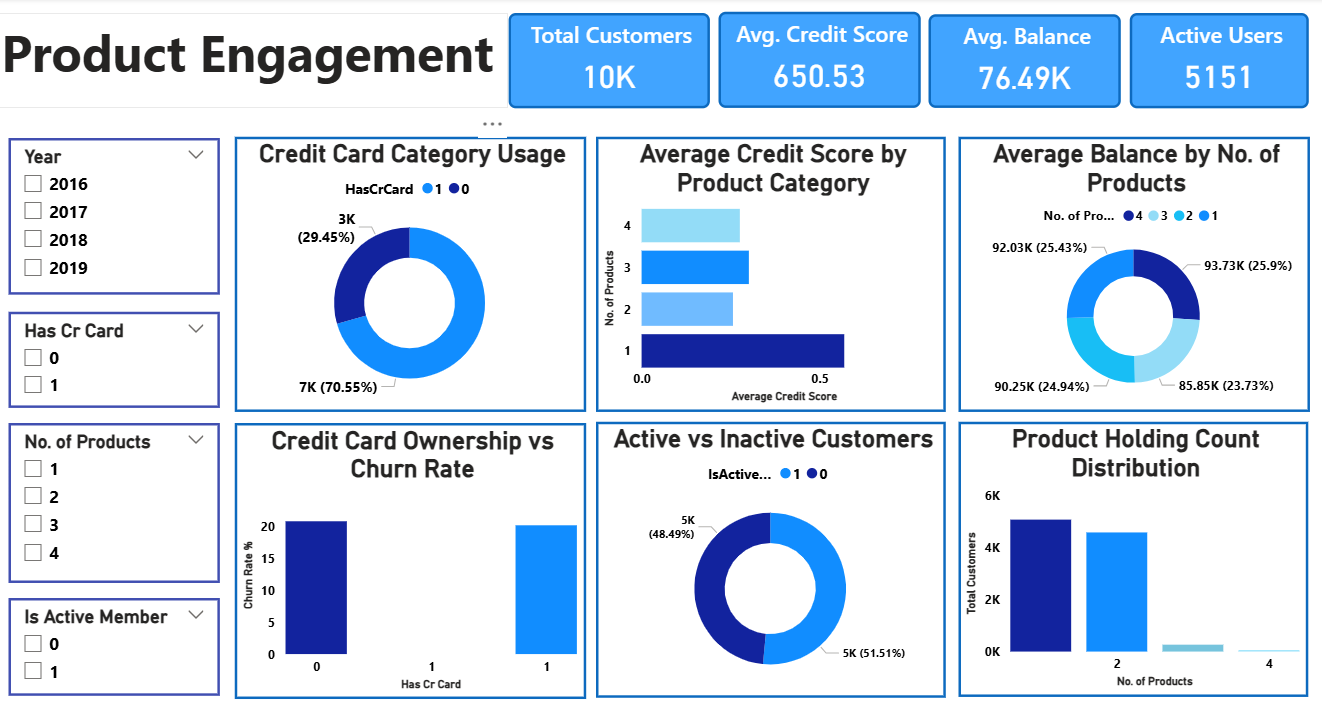

Layout of this report page (visuals, bound fields, positions):
{"tool":"powerbi","page":{"name":"Product Engagement","canvas":[1280,720],"ordinal":1},"visuals":[{"type":"clusteredBarChart","title":"Average Credit Score by Product Category","fields":{"Category":["Bank_Churn (2).NumOfProducts"],"Y":["Avg(Bank_Churn.Churn Score)"]},"box":[579.1,133.9,337.8,265.4],"z":0},{"type":"donutChart","title":"Active vs Inactive Customers","fields":{"Category":["Bank_Churn.IsActiveMember"],"Y":["Active Customers.Total Customers"]},"box":[579.1,409,337.8,266.6],"z":1000},{"type":"clusteredColumnChart","title":"Product Holding Count Distribution","fields":{"Category":["Bank_Churn (2).NumOfProducts"],"Y":["Active Customers.Total Customers"]},"box":[929,409,337.8,265.4],"z":2000},{"type":"donutChart","title":"Average Balance by No. of Products","fields":{"Category":["Bank_Churn (2).NumOfProducts"],"Y":["Bank_Churn.Average bal"]},"box":[929,133.9,339,265.4],"z":3000},{"type":"clusteredColumnChart","title":"Credit Card Ownership vs Churn Rate","fields":{"Category":["Bank_Churn.HasCrCard"],"Y":["Active Customers.Churn Rate %"]},"box":[230.4,410.2,339,266.6],"z":4000},{"type":"card","title":"Total Customers","fields":{"Values":["Active Customers.Total Customers"]},"box":[494.6,14.5,194.2,91.7],"z":5000},{"type":"donutChart","title":"Credit Card Category Usage","fields":{"Category":["Bank_Churn (2).HasCrCard"],"Y":["Active Customers.Total Customers"]},"box":[230.4,133.9,339,265.4],"z":6000},{"type":"textbox","box":[0,14.5,494.6,91.7],"z":7000},{"type":"card","title":"Avg. Credit Score","fields":{"Values":["Bank_Churn.Avg credit score"]},"box":[697.3,13.3,195.4,92.9],"z":8000},{"type":"card","title":"Avg. Balance","fields":{"Values":["Active Customers.Average Balance"]},"box":[900,15.7,185.8,90.5],"z":9000},{"type":"card","title":"Active Users","fields":{"Values":["Bank_Churn.Active Customers"]},"box":[1094.2,14.5,172.5,91.7],"z":10000},{"type":"slicer","fields":{"Values":["CustomerInfo.year"]},"box":[12.6,134.5,203.7,150.9],"z":10001},{"type":"slicer","fields":{"Values":["Bank_Churn.HasCrCard"]},"box":[12.6,303,203.7,93],"z":10002},{"type":"slicer","fields":{"Values":["Bank_Churn.NumOfProducts"]},"box":[12.6,409.9,203.7,154.7],"z":10003},{"type":"slicer","fields":{"Values":["Bank_Churn.IsActiveMember"]},"box":[12.6,579.6,203.7,94.3],"z":10004}]}

Visuals, with their boxes on the page's 1280x720 design canvas (x1, y1, x2, y2). These are canvas units, not pixel positions in the 1322x712 screenshot, which may show the page scaled, cropped or inside an application window:
"Average Credit Score by Product Category" clusteredBarChart: locate(579, 134, 917, 399)
"Active vs Inactive Customers" donutChart: locate(579, 409, 917, 676)
"Product Holding Count Distribution" clusteredColumnChart: locate(929, 409, 1267, 674)
"Average Balance by No. of Products" donutChart: locate(929, 134, 1268, 399)
"Credit Card Ownership vs Churn Rate" clusteredColumnChart: locate(230, 410, 569, 677)
"Total Customers" card: locate(495, 14, 689, 106)
"Credit Card Category Usage" donutChart: locate(230, 134, 569, 399)
textbox: locate(0, 14, 495, 106)
"Avg. Credit Score" card: locate(697, 13, 893, 106)
"Avg. Balance" card: locate(900, 16, 1086, 106)
"Active Users" card: locate(1094, 14, 1267, 106)
slicer - CustomerInfo.year: locate(13, 134, 216, 285)
slicer - Bank_Churn.HasCrCard: locate(13, 303, 216, 396)
slicer - Bank_Churn.NumOfProducts: locate(13, 410, 216, 565)
slicer - Bank_Churn.IsActiveMember: locate(13, 580, 216, 674)
